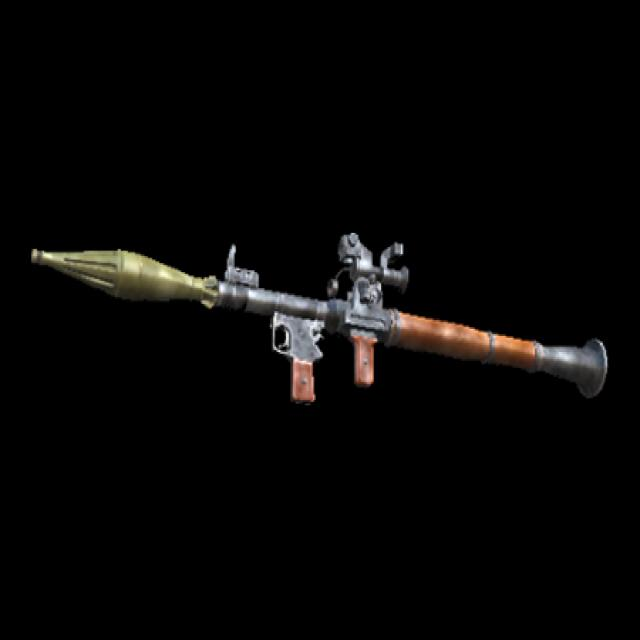bazooka: (12, 165, 618, 447)
